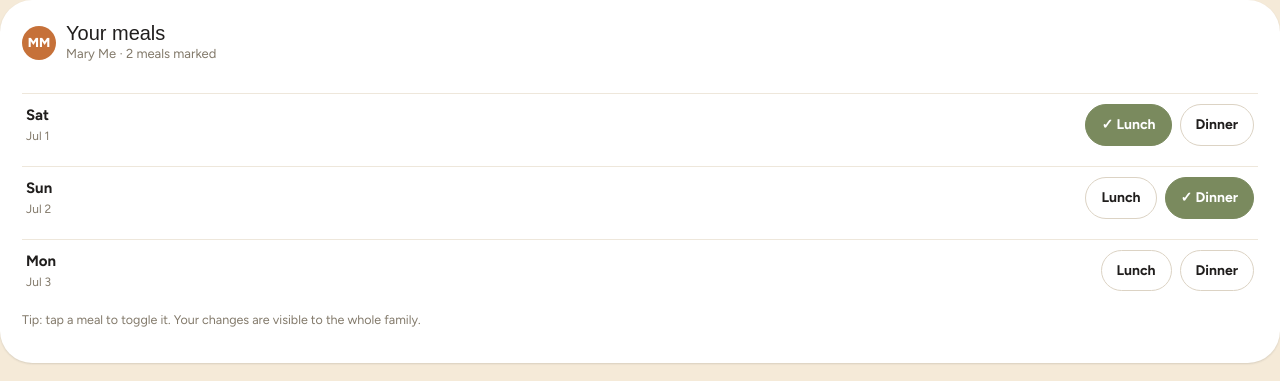
Test: CAP-011 Meal RSVPs — Your meals › CAP-011 · Unmarking a meal
Check: the text "Mary Me · 2 meals marked" is shown, box [66,44,216,64]
Click the button "✓ Lunch".
click(1129, 125)  # box [1086,104,1172,146]
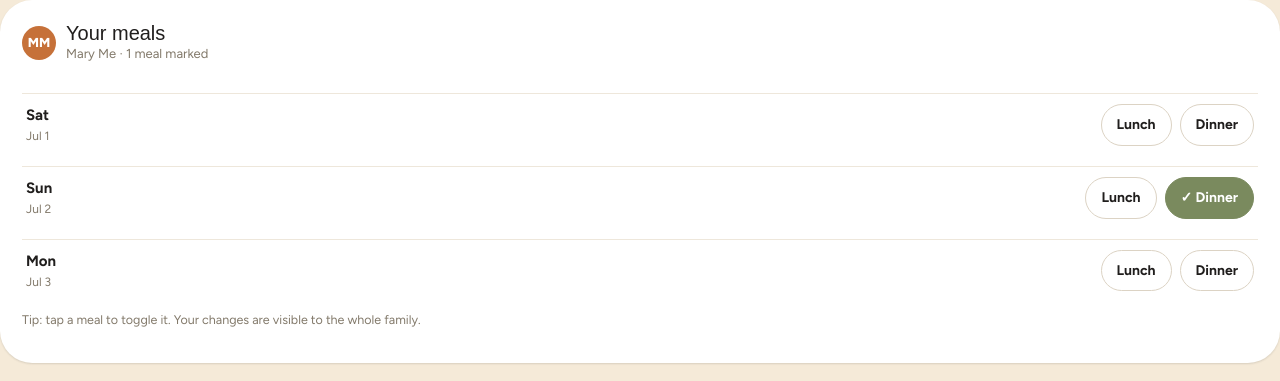
Check: the button "Lunch" in the row of "Jul 1" is shown, box [1100,104,1172,146]
Check: the text "Mary Me · 1 meal marked" is shown, box [66,44,208,64]
